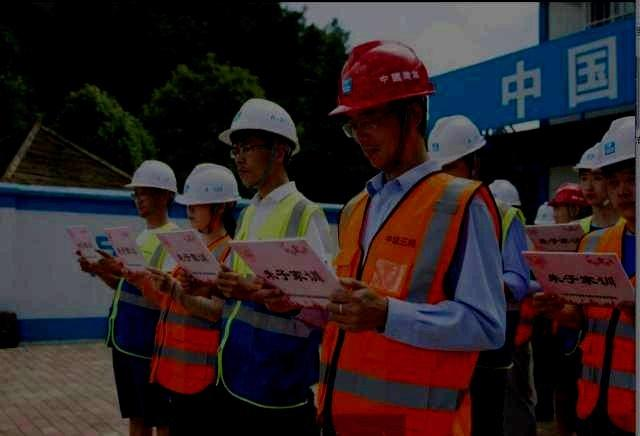helmet: (327, 38, 438, 170), (218, 98, 300, 188), (174, 162, 242, 230), (592, 116, 636, 218), (427, 114, 488, 179), (124, 159, 177, 215), (571, 142, 609, 206), (547, 181, 590, 225), (487, 179, 521, 208), (534, 202, 555, 226)
